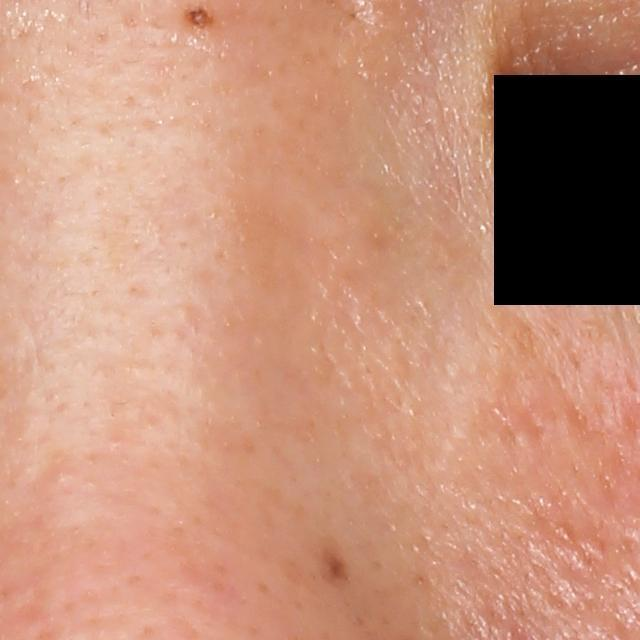nevus: (322, 554, 349, 585)
